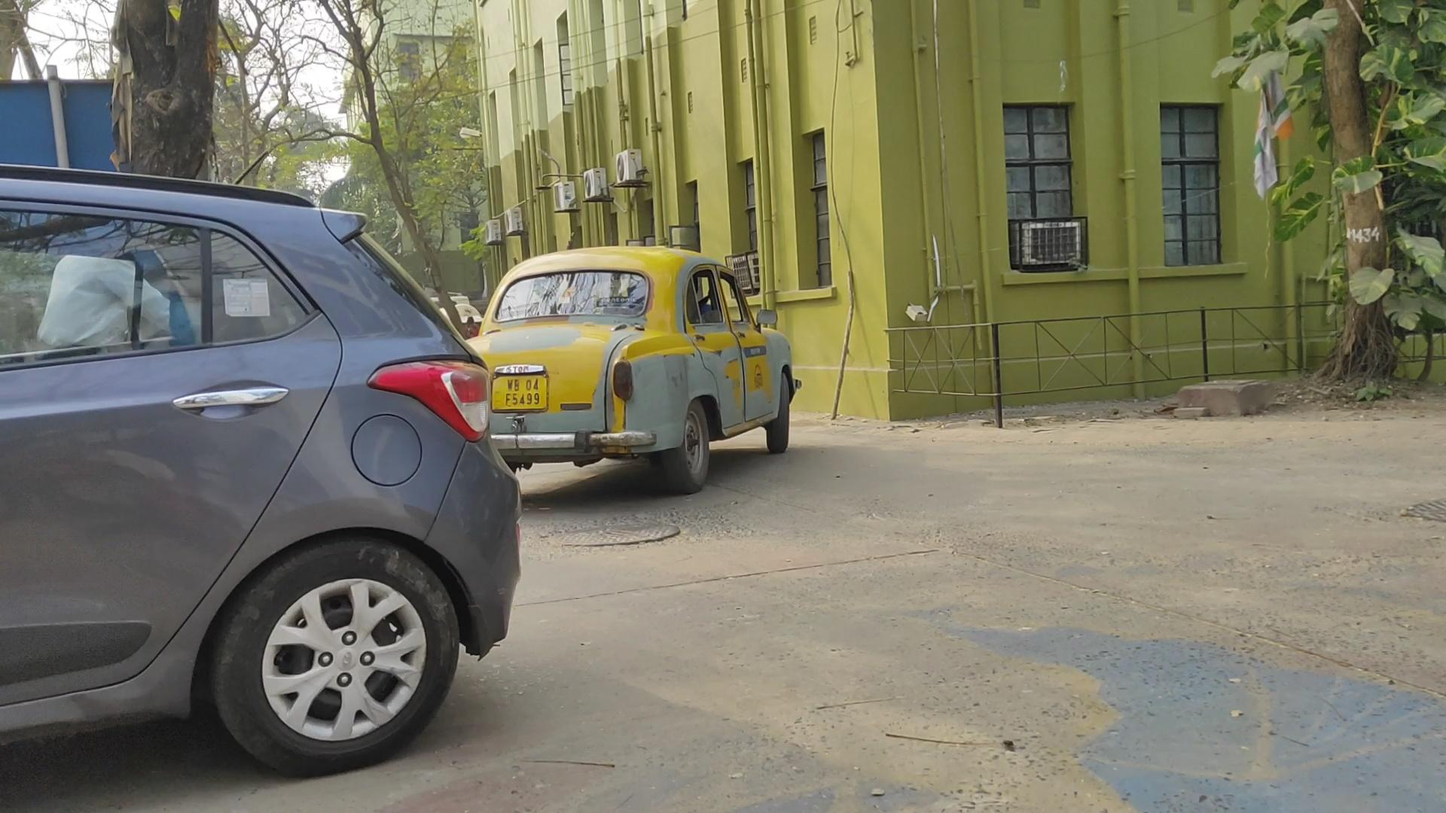car: (1, 160, 524, 800), (447, 245, 804, 498)
